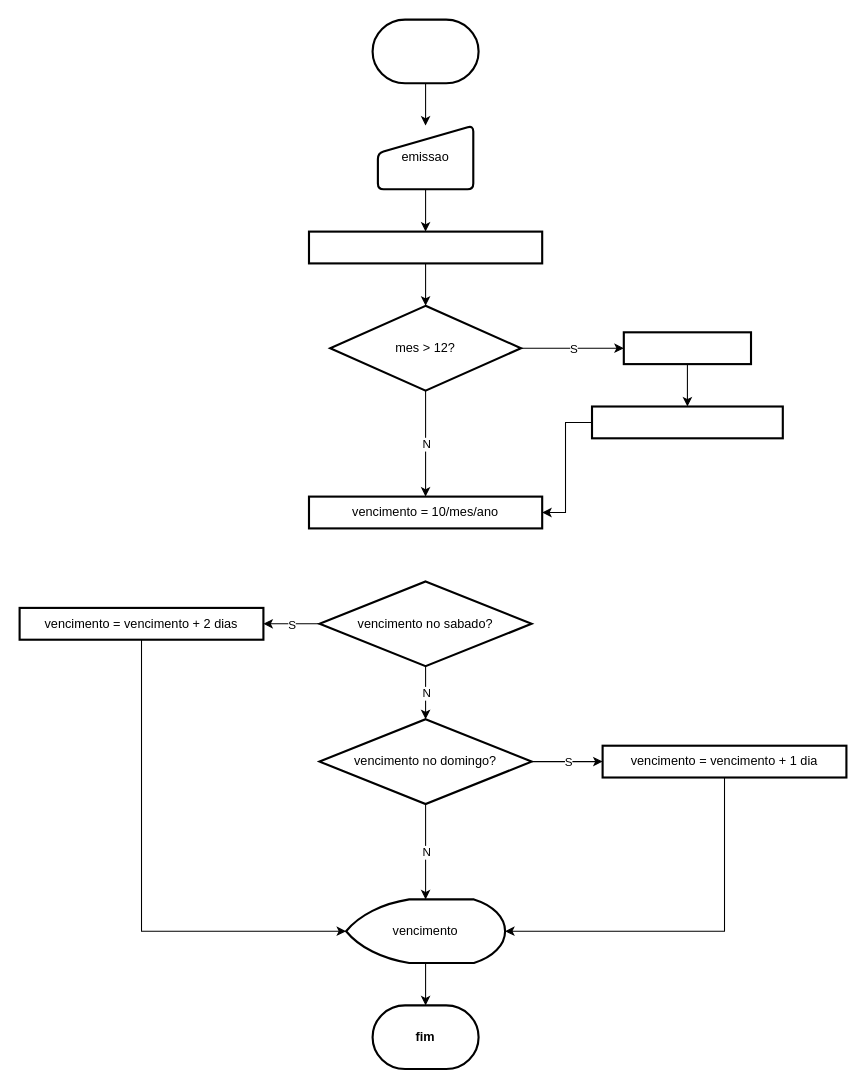
Image size: 865x1088. Some labels were removed from this diagram. Here are the shapes that lost their labels. From the top down, the centre of each, then its label:
At (x=425, y=51): "inicio".
At (x=425, y=247): "mes = mes(emissao) + 1".
At (x=687, y=348): "mes = 1".
At (x=686, y=422): "ano = ano(emissao) + 1".
